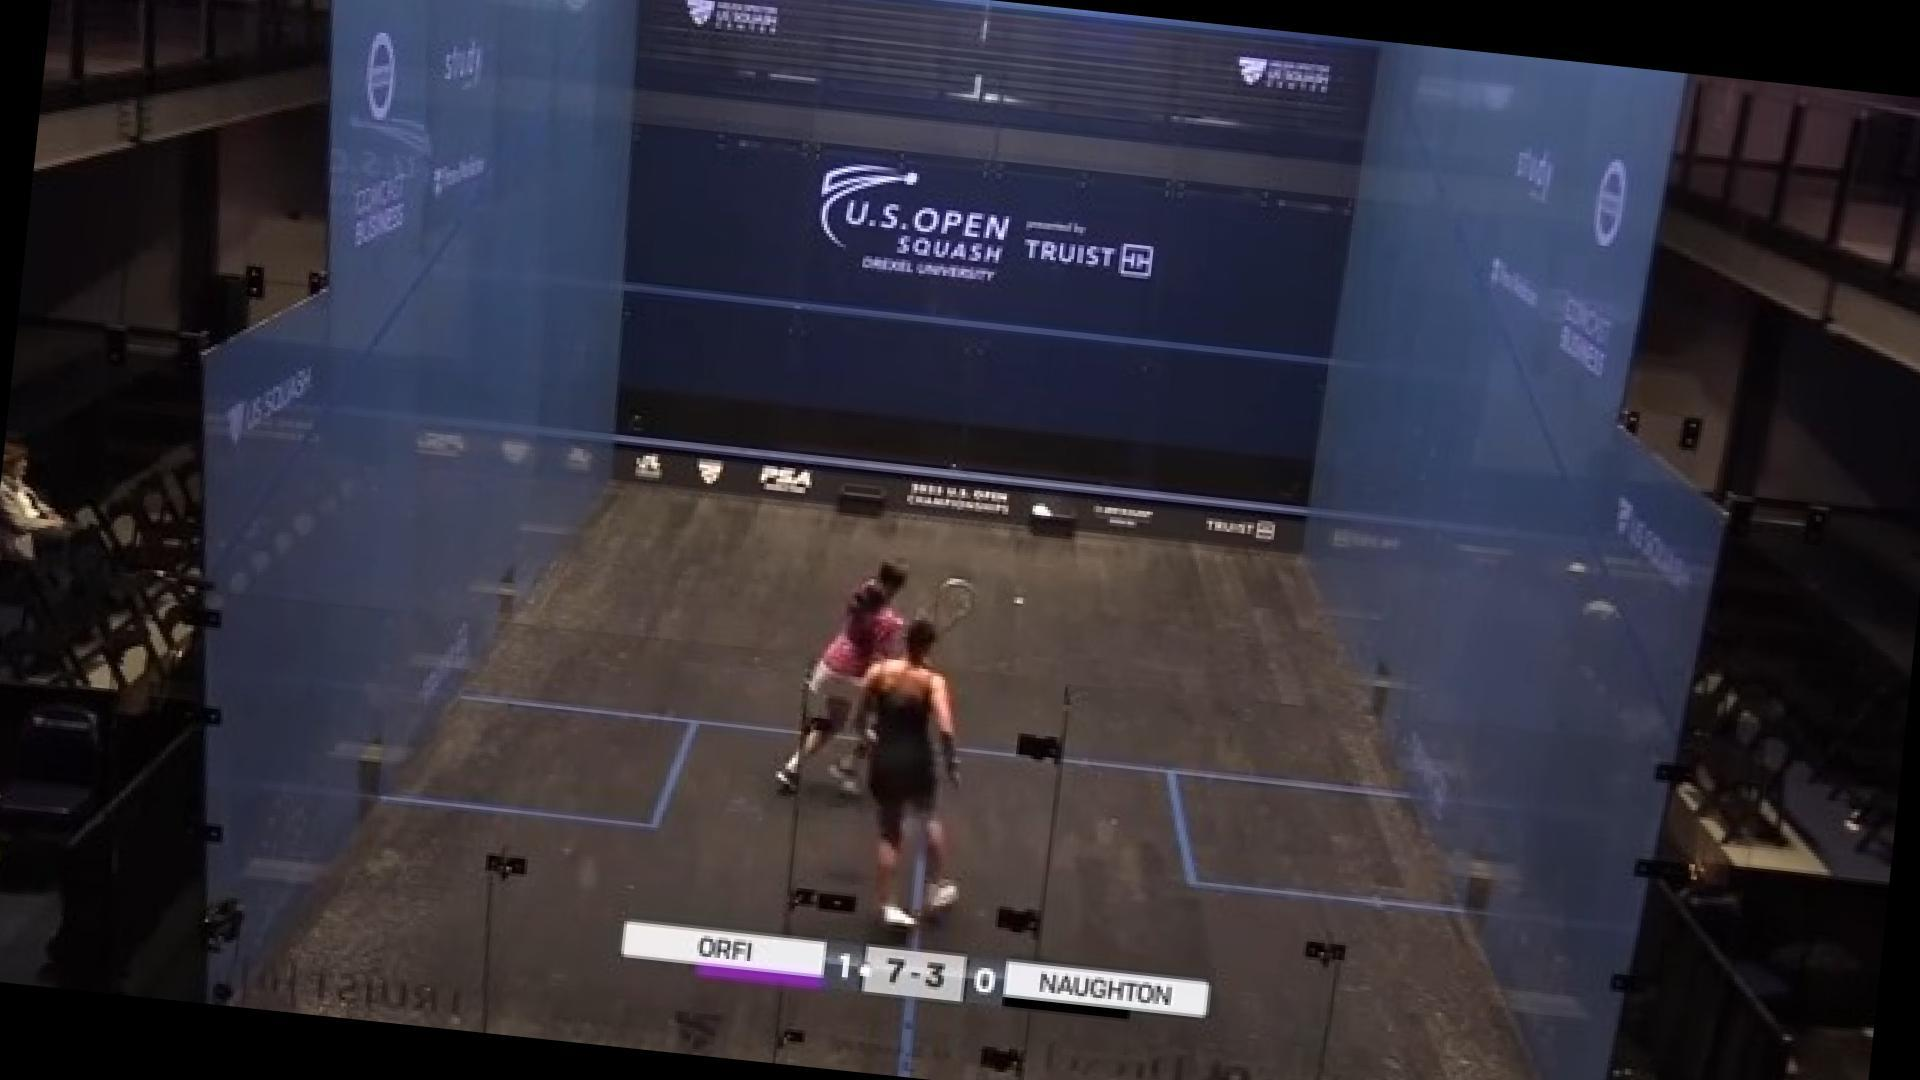Squash-Ball: (998, 582, 1039, 626)
